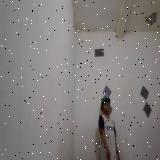Helmet: (101, 96, 111, 107)
